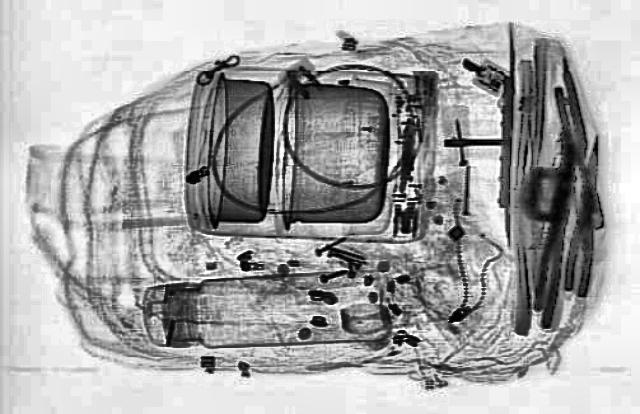Pliers: (520, 146, 586, 326), (558, 133, 612, 297)
